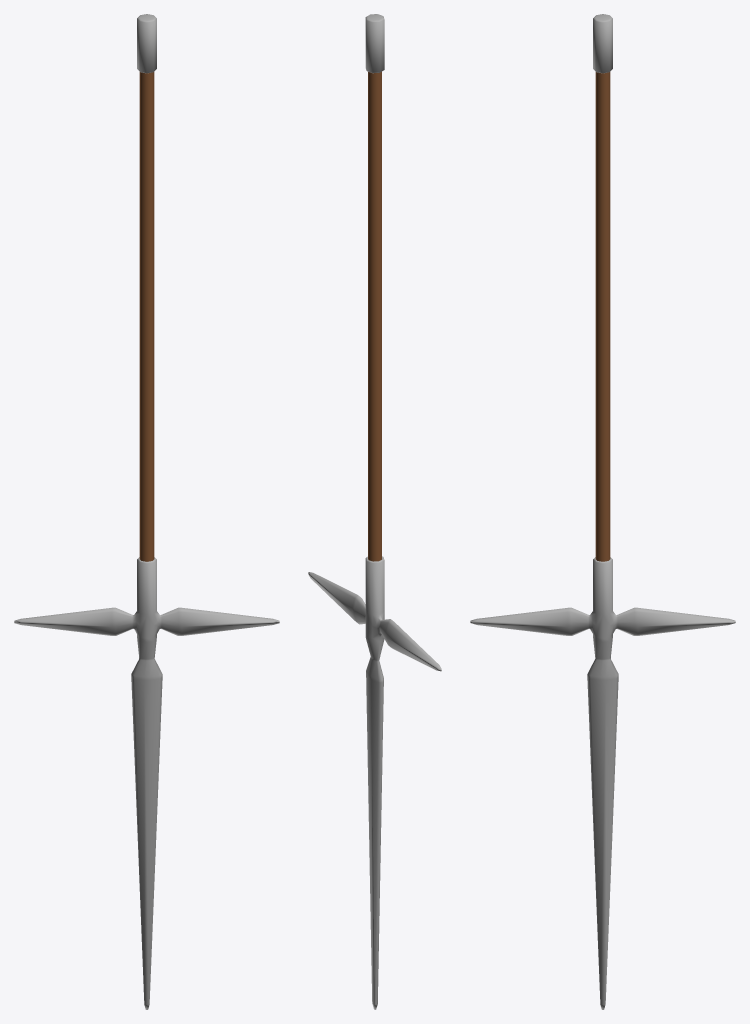
Rendered from polearm-1.glb.
The picture shows the model from 3 angles, left to right: view 1: azimuth 90°, elevation 25°; view 2: azimuth 210°, elevation 25°; view 3: azimuth 270°, elevation 25°; orthographic projection.
Visible parts, largest first — view 1: Cylinder.001, Cylinder, Cylinder.002; view 2: Cylinder.001, Cylinder, Cylinder.002; view 3: Cylinder.001, Cylinder, Cylinder.002.
Boxes of the visible parts, x1=… form: Cylinder.001: x1=14, y1=557, x2=279, y2=1009; Cylinder: x1=139, y1=72, x2=154, y2=561; Cylinder.002: x1=137, y1=14, x2=156, y2=73; Cylinder.001: x1=308, y1=556, x2=441, y2=1009; Cylinder: x1=368, y1=71, x2=381, y2=561; Cylinder.002: x1=365, y1=14, x2=384, y2=73; Cylinder.001: x1=470, y1=557, x2=735, y2=1009; Cylinder: x1=595, y1=72, x2=610, y2=561; Cylinder.002: x1=593, y1=14, x2=612, y2=73.
Size of the model in its own units: 0.0269 by 1.49 by 0.3618.
